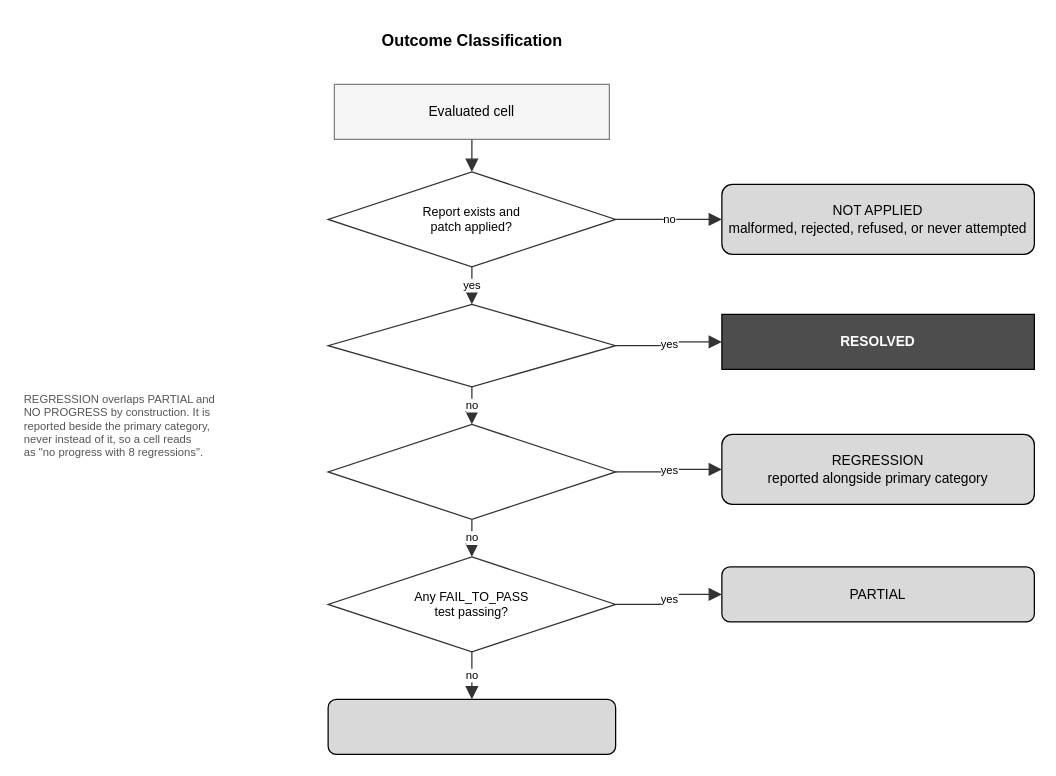
Some shapes in this 1056 by 776 pixel diagram are drawn without their labels. Each missing label, with the box of its shape:
Any PASS_TO_PASS test failing?: (327, 423, 616, 519)
NO PROGRESS: (327, 698, 616, 754)
Resolution flag true?: (327, 303, 616, 387)
